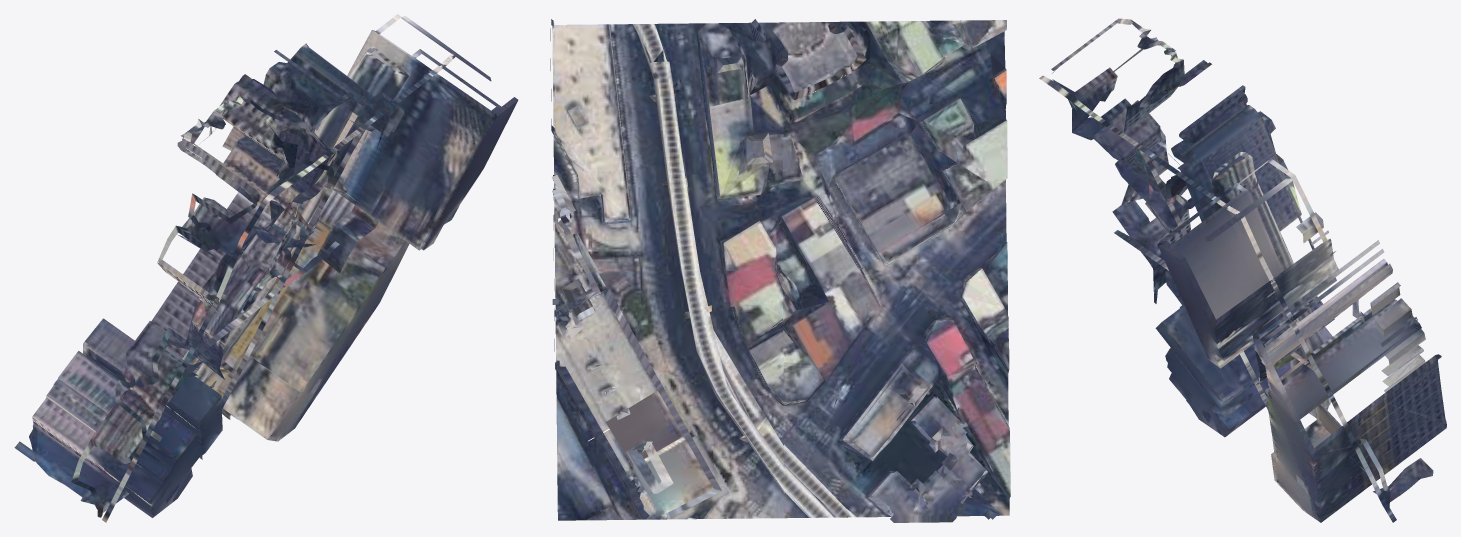
3 renders of one model, left to right at view 1: azimuth 30°, elevation 25°; view 2: azimuth 150°, elevation 25°; view 3: azimuth 270°, elevation 25°, orthographic. The views are drawn at different scales.
Size of the model in its own units: 181 by 164 by 147.
Materials: 3 (3 with a texture image).
